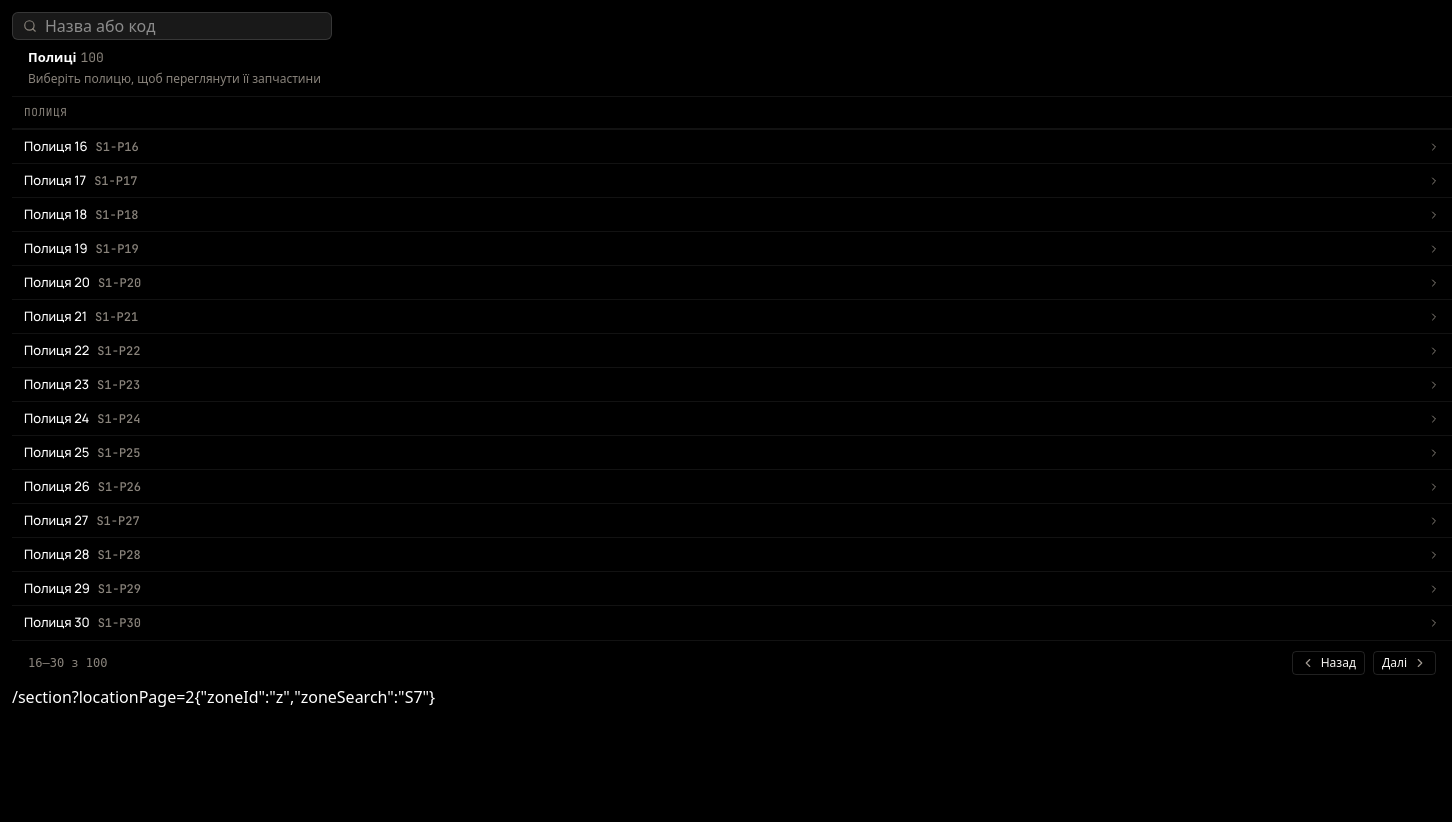
Test: location resource navigation › pages only the selected section shelves by fifteen and restores URL page
Check: the text "S1-P16" is shown, box [96, 138, 139, 156]
Type "S1-P100" into the search field at (183, 26), box [45, 14, 321, 38]
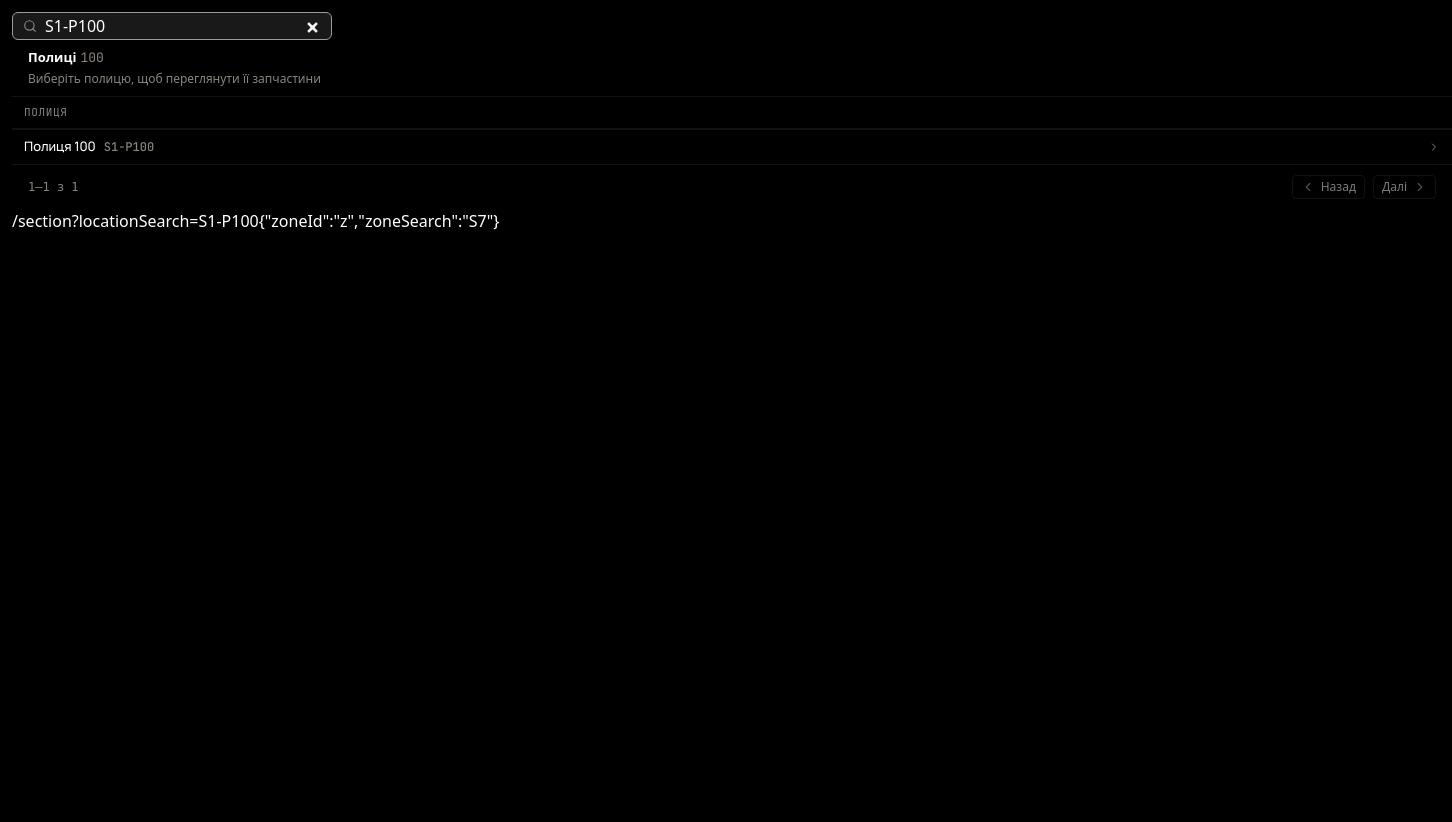
Check: the text "Полиця 100" is shown, box [24, 137, 96, 156]
Check: the navigation bar named "Сторінки полиць" shows "1–1 з 1", box [28, 180, 79, 194]
Check: the button with aria-label "Наступна" is disabled, box [1373, 174, 1436, 198]
